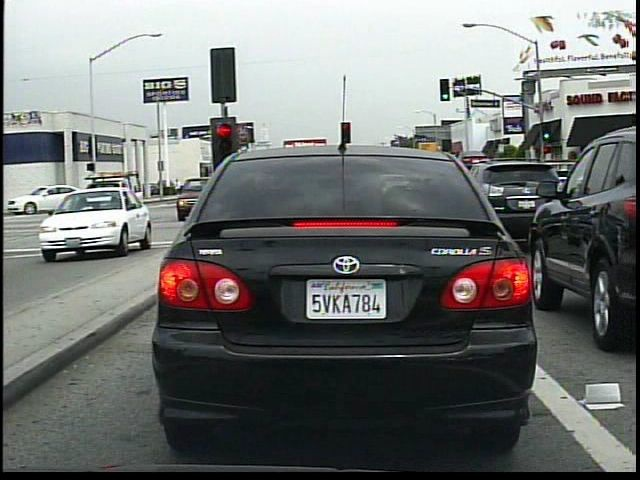person: (172, 174, 184, 199)
